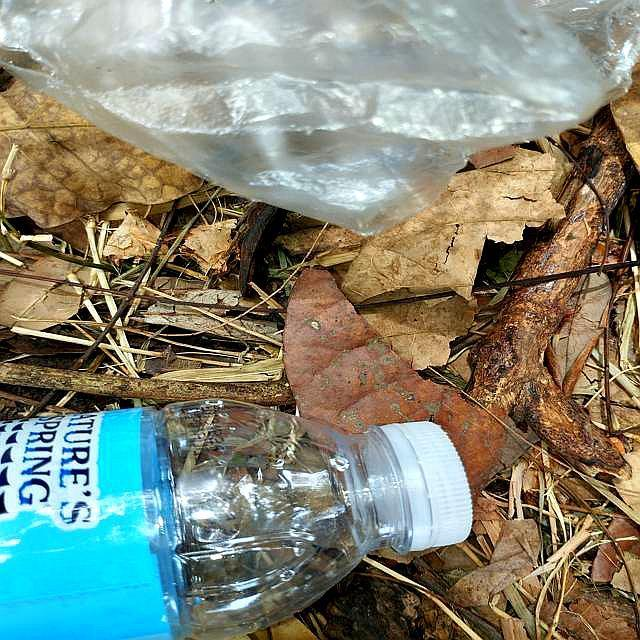Non-biodegradable: (1, 1, 639, 251), (1, 407, 481, 640)
